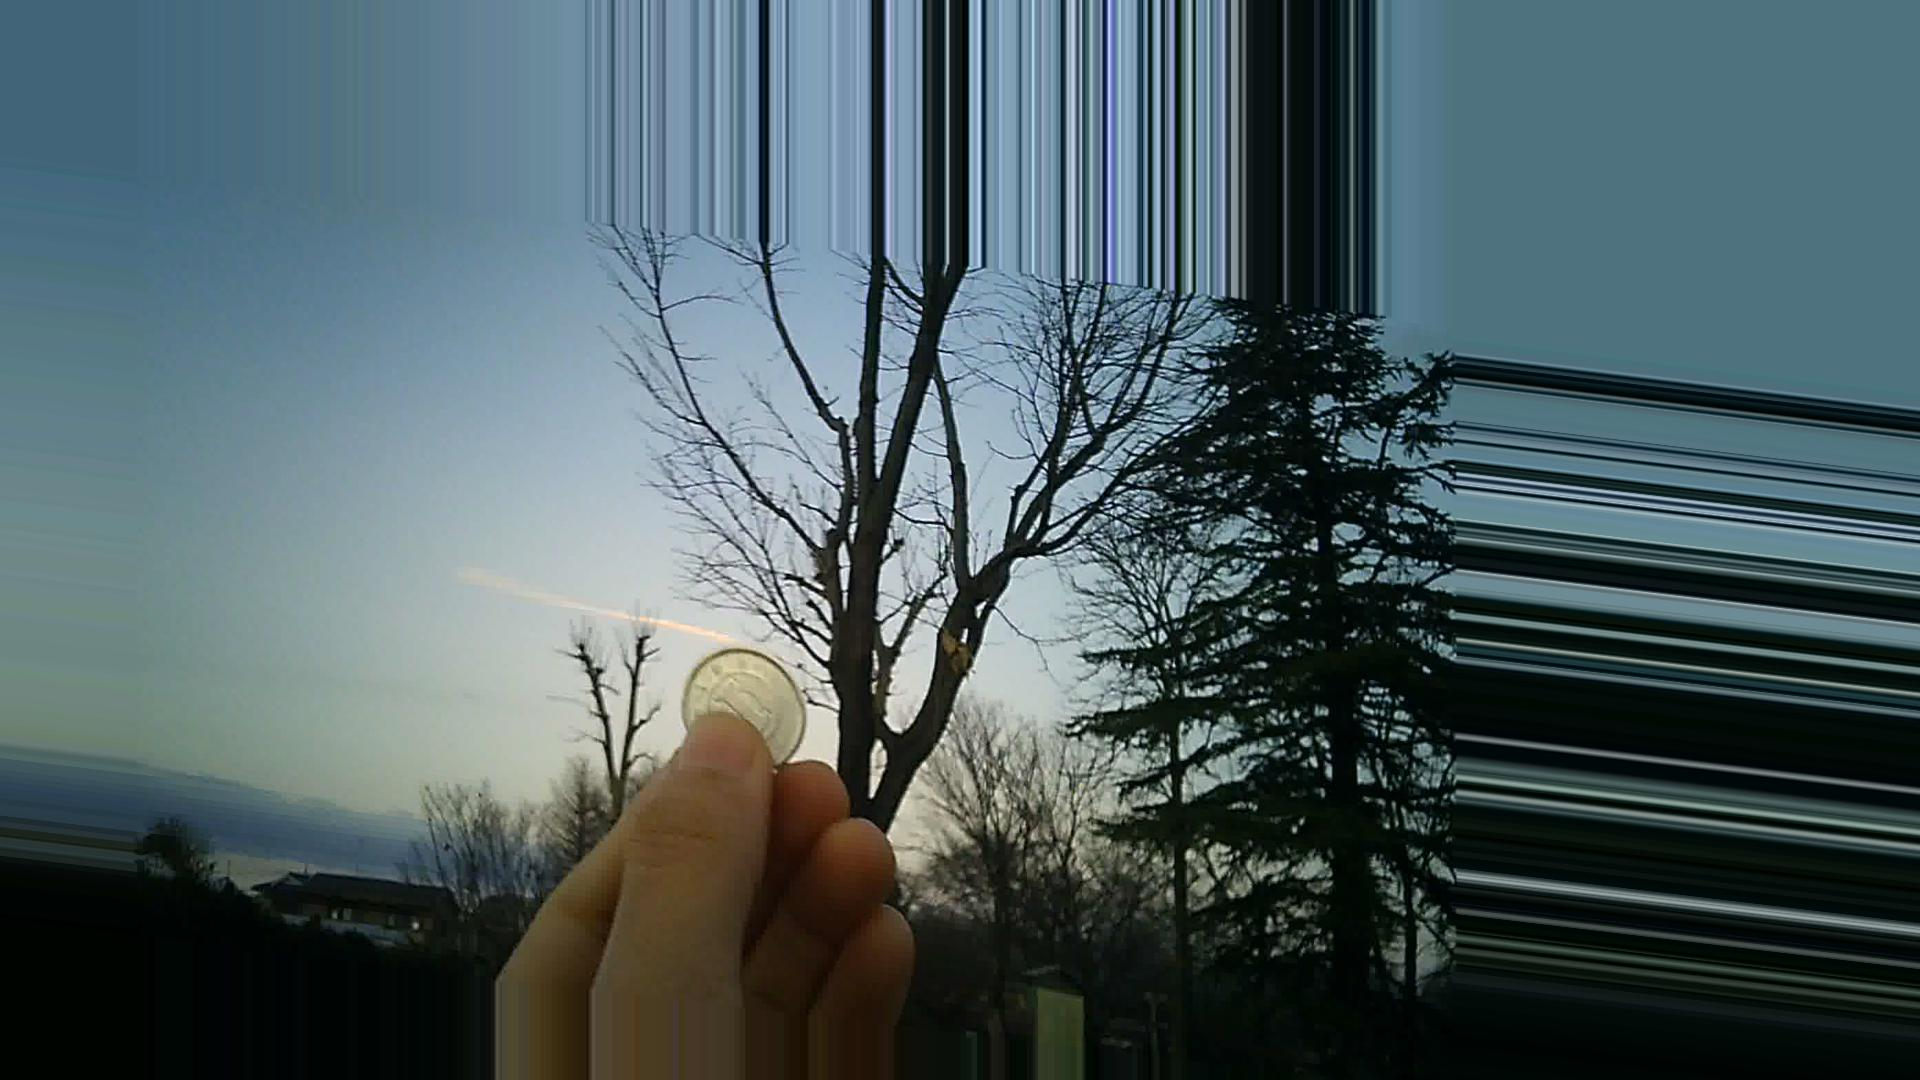1 Yen: (670, 638, 822, 774)
